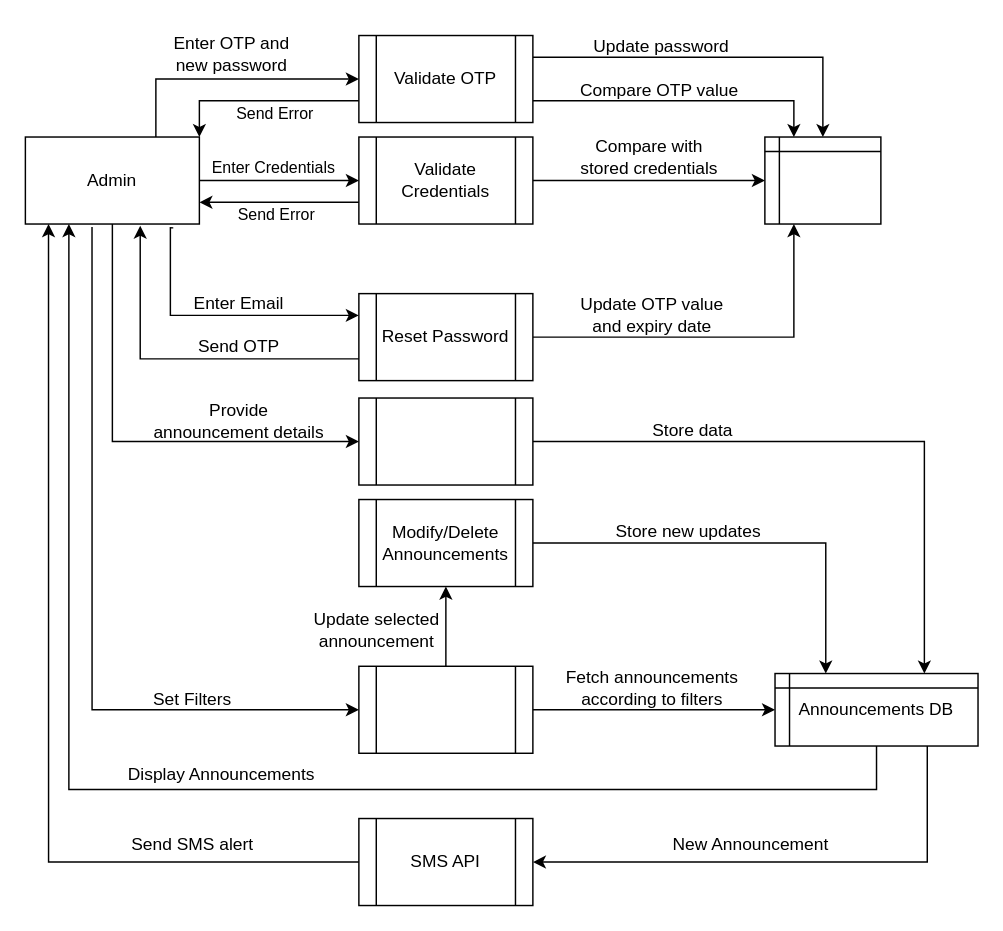
Some shapes in this 1003 by 931 pixel diagram are drawn without their labels. The shapes that lost their labels are listed below. From the top down, each one's centre as x and y in pixels, then its label:
At (822,180): "Login DB".
At (445,441): "Add Announcements".
At (445,709): "View Announcements".
